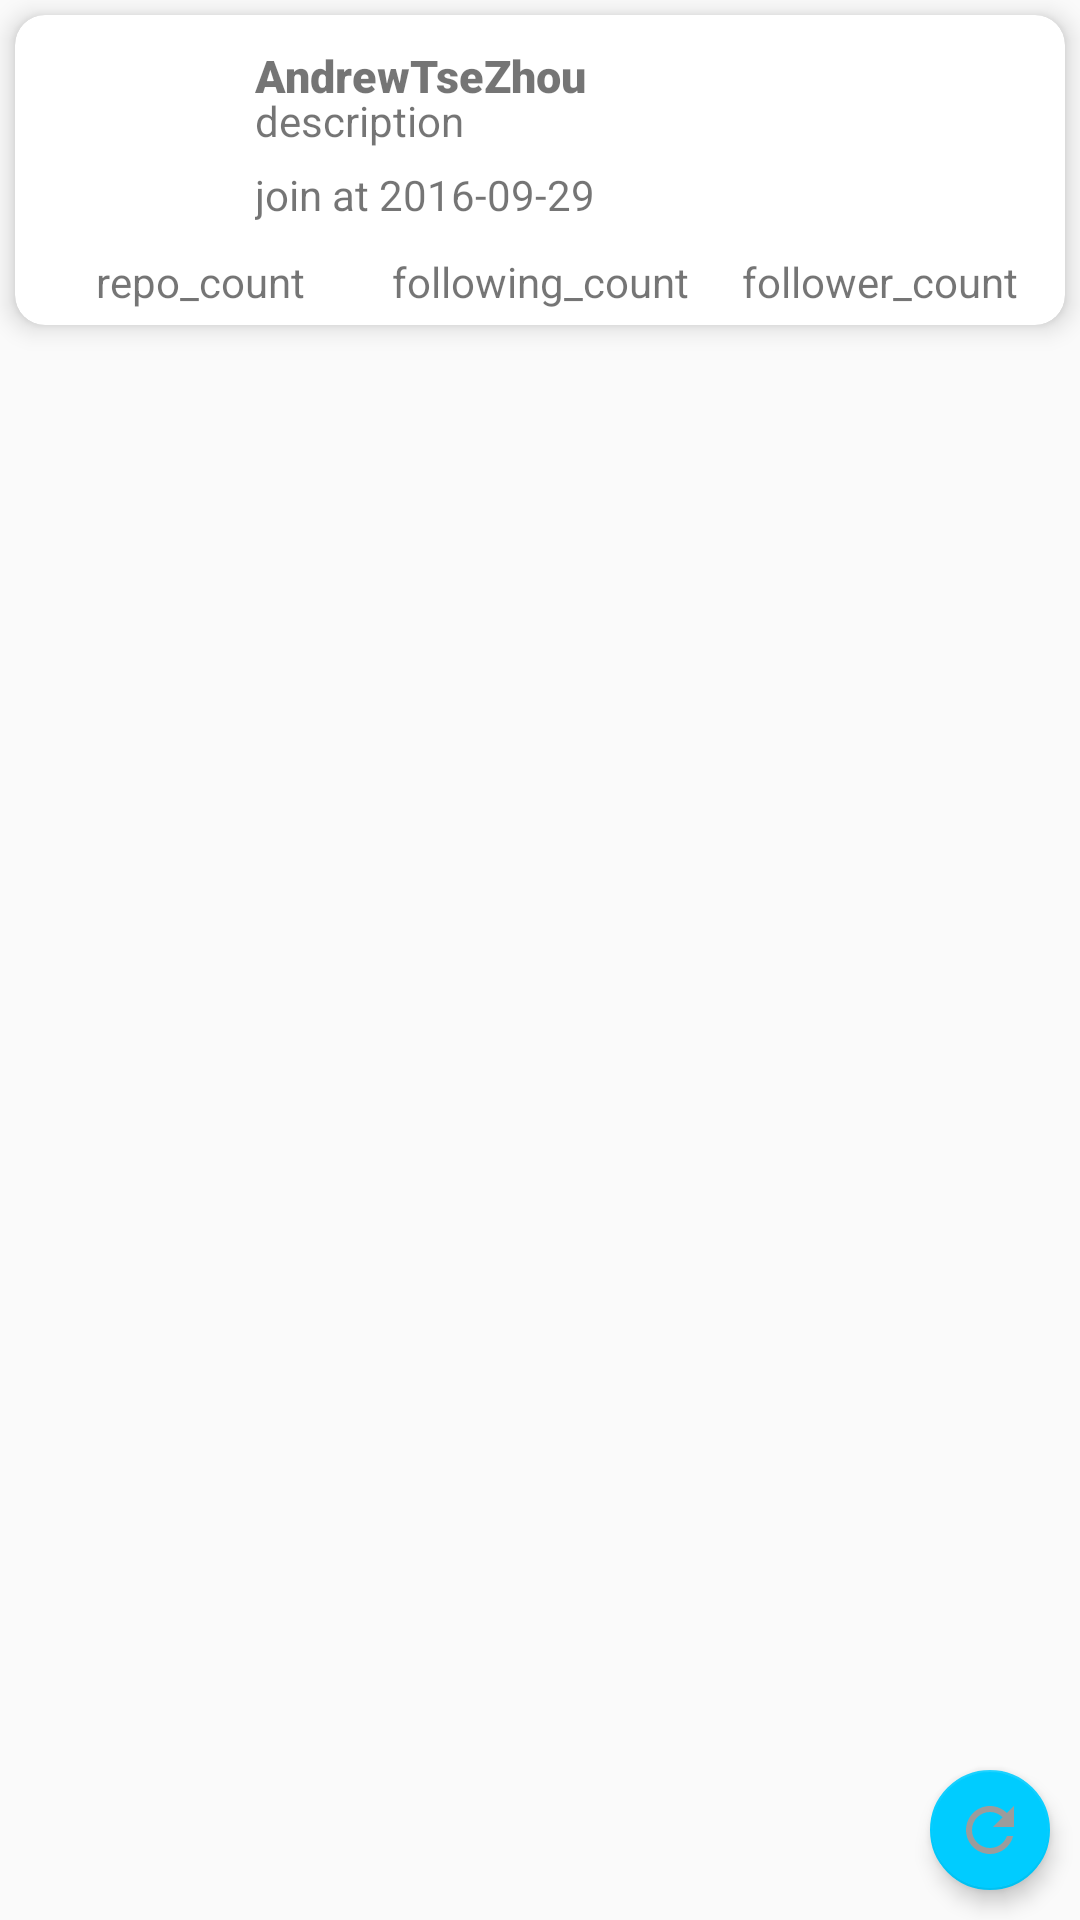

Icon bounding boxes for this 1080px×1920px phone screenshot, format (x1, y1, x2, y2):
refresh: (930, 1770, 1050, 1890)
